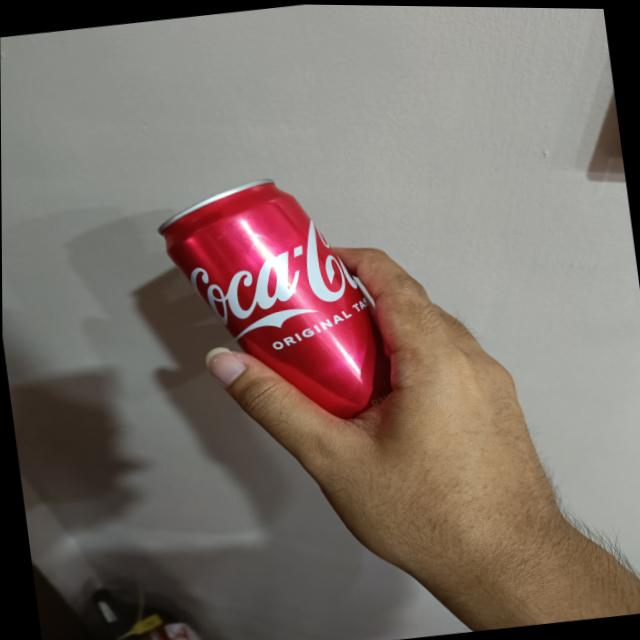coke: (153, 157, 417, 458)
